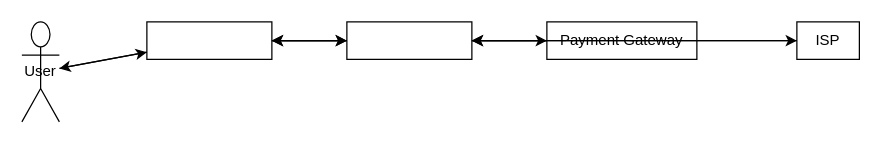
Image size: 881x144. Some labels were removed from this diagram. Here are the shapes that lost their labels. From the top down, the centre of each, then its label:
(x=209, y=40): Web Browser
(x=409, y=40): Web Portal
